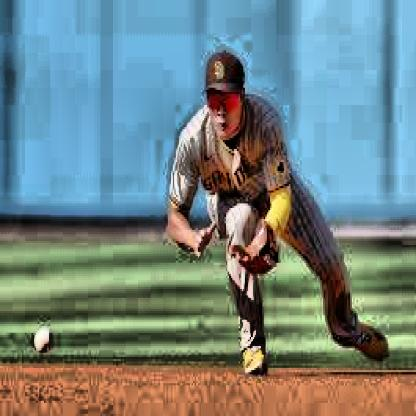baseball: (35, 330, 53, 348)
